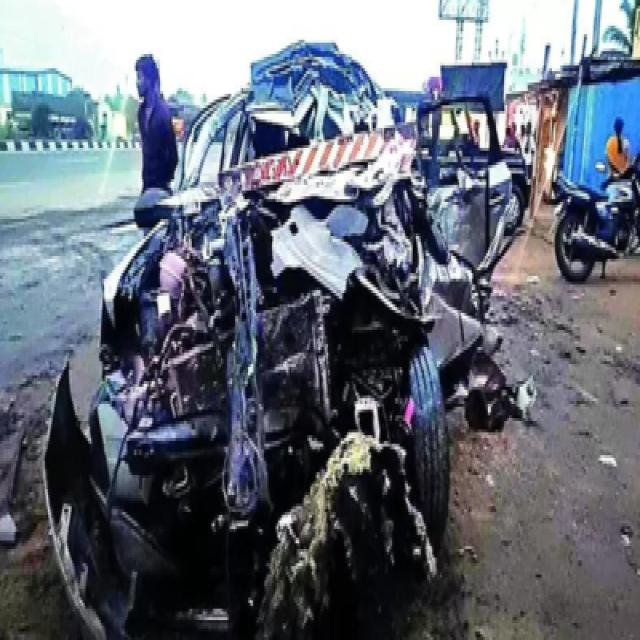accident: (45, 42, 519, 637)
motorcycle: (551, 156, 640, 281)
